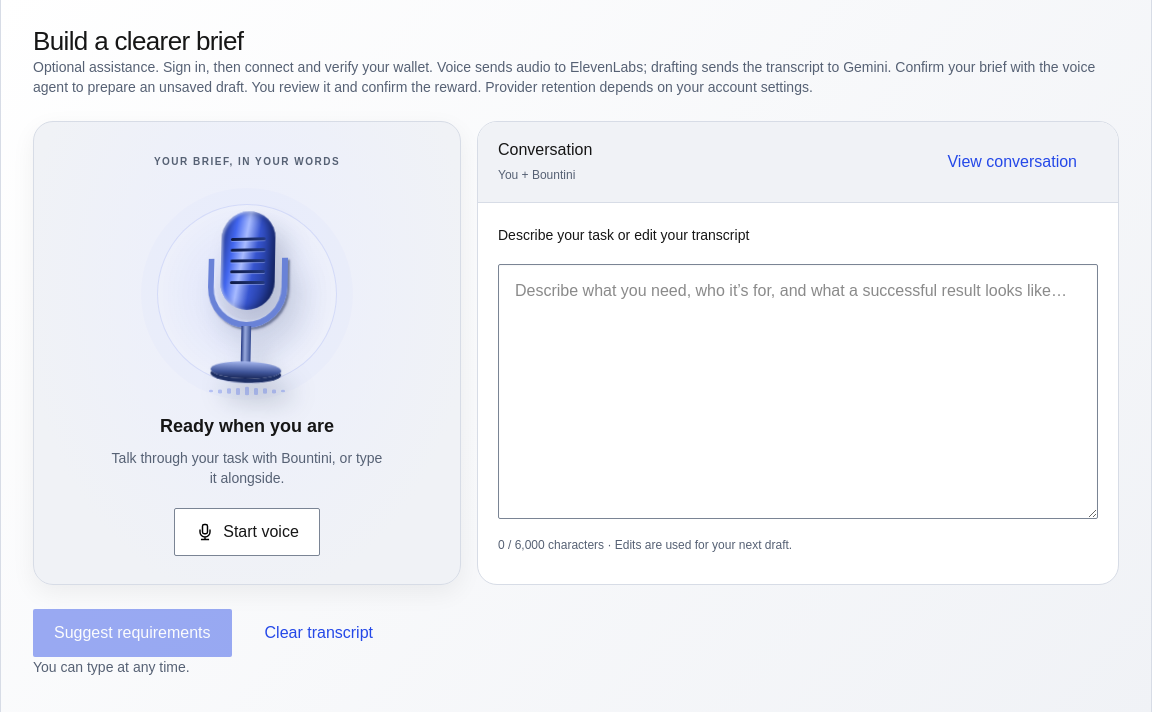
Test case: preserves edits even when fields are restored to their original values
What coordinates should you click on to do the following:
click the button "Start voice"
I would click on:
 (247, 532)
Its box is [174, 508, 320, 556].
Wait 1 ms
(page scrolled)
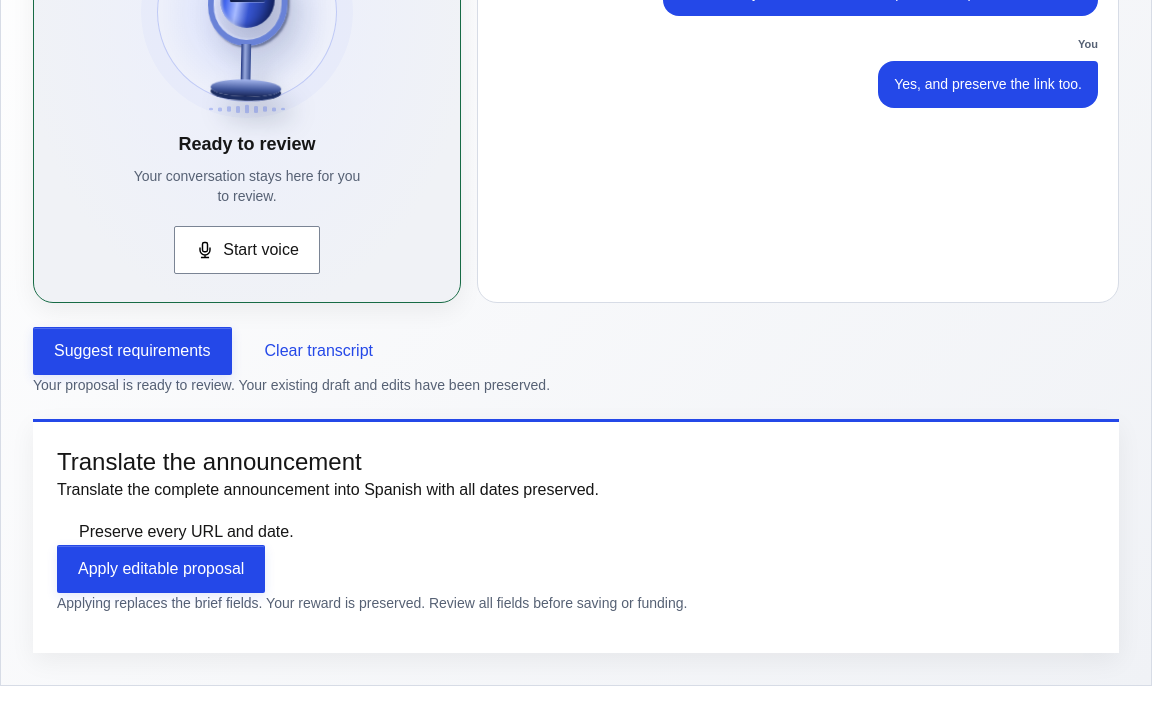
Expected: the button "Apply editable proposal" is shown, [57, 545, 265, 593]
